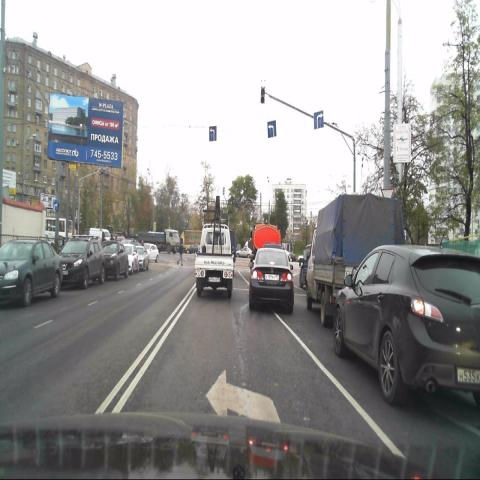2_4: (381, 188, 394, 202)
5_15_2: (313, 111, 324, 129), (267, 120, 277, 136), (208, 125, 216, 142)
